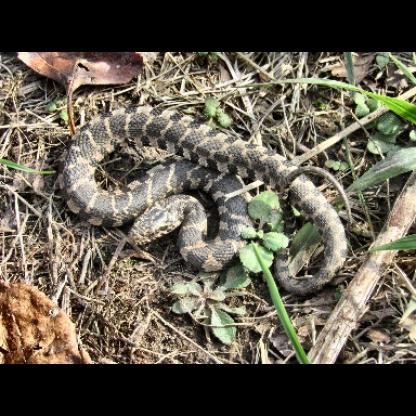Snake: (55, 109, 350, 299)
